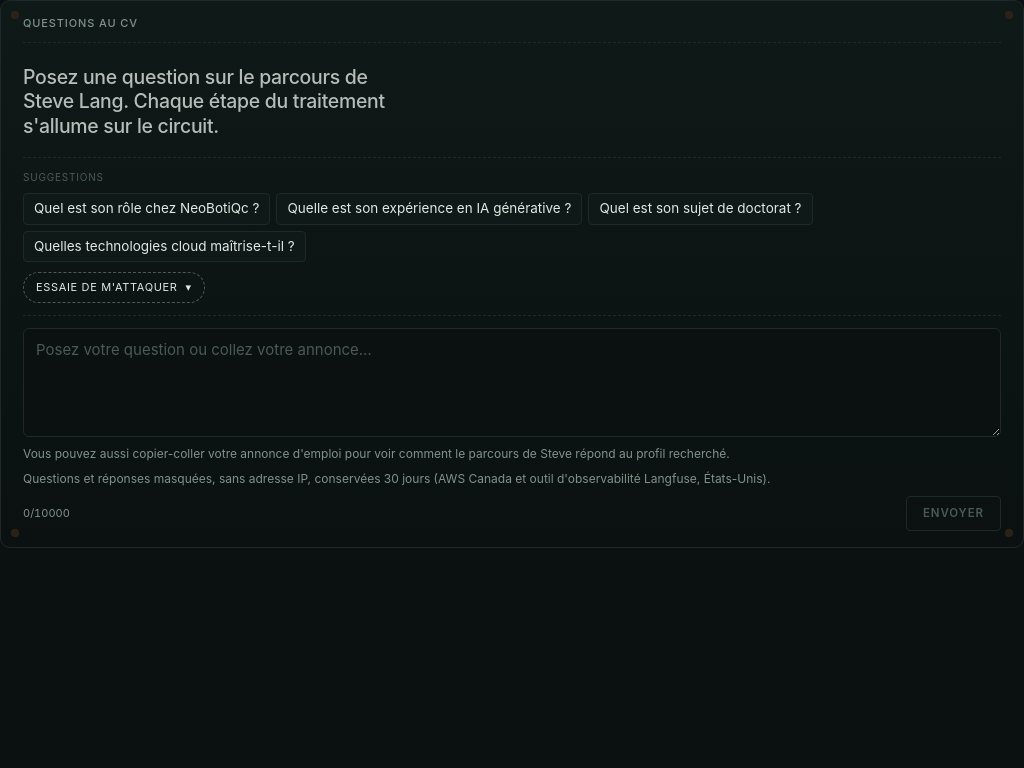
Test: Chat › limite la saisie à 10 000 caractères et affiche le compteur
Type "Bonjour" into the text box named "Votre question ou annonce".
click(512, 382); type("Bonjour")  # box [23, 328, 1001, 437]
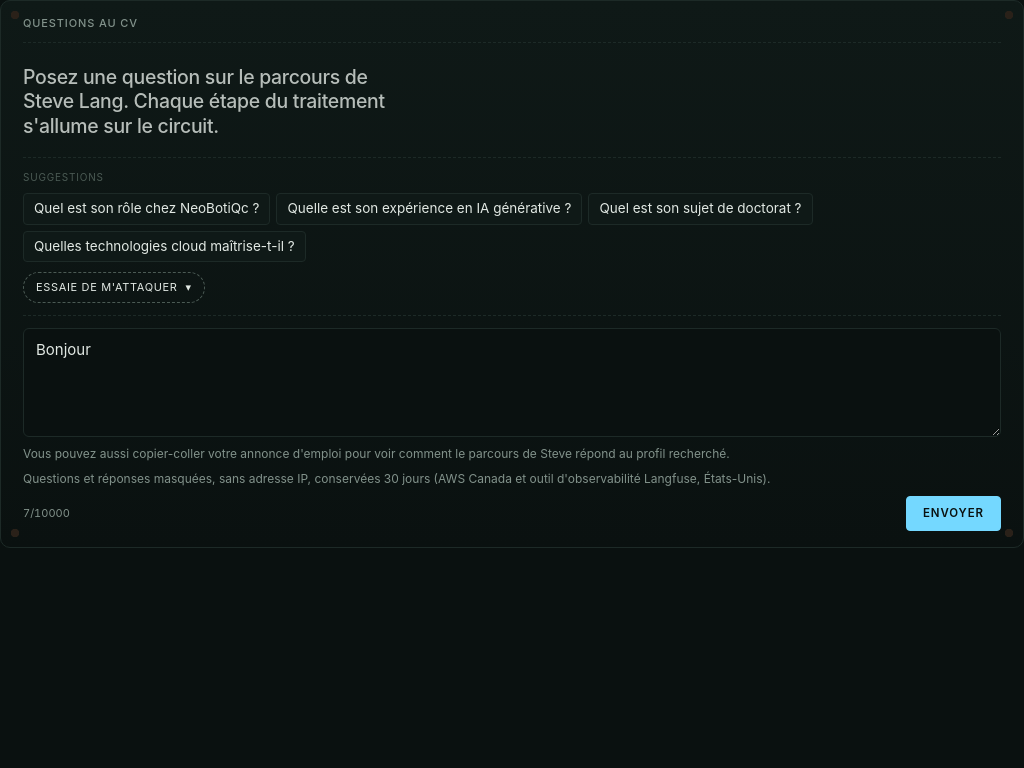
expect the text "7/10000" is shown: met, box [23, 505, 70, 521]
